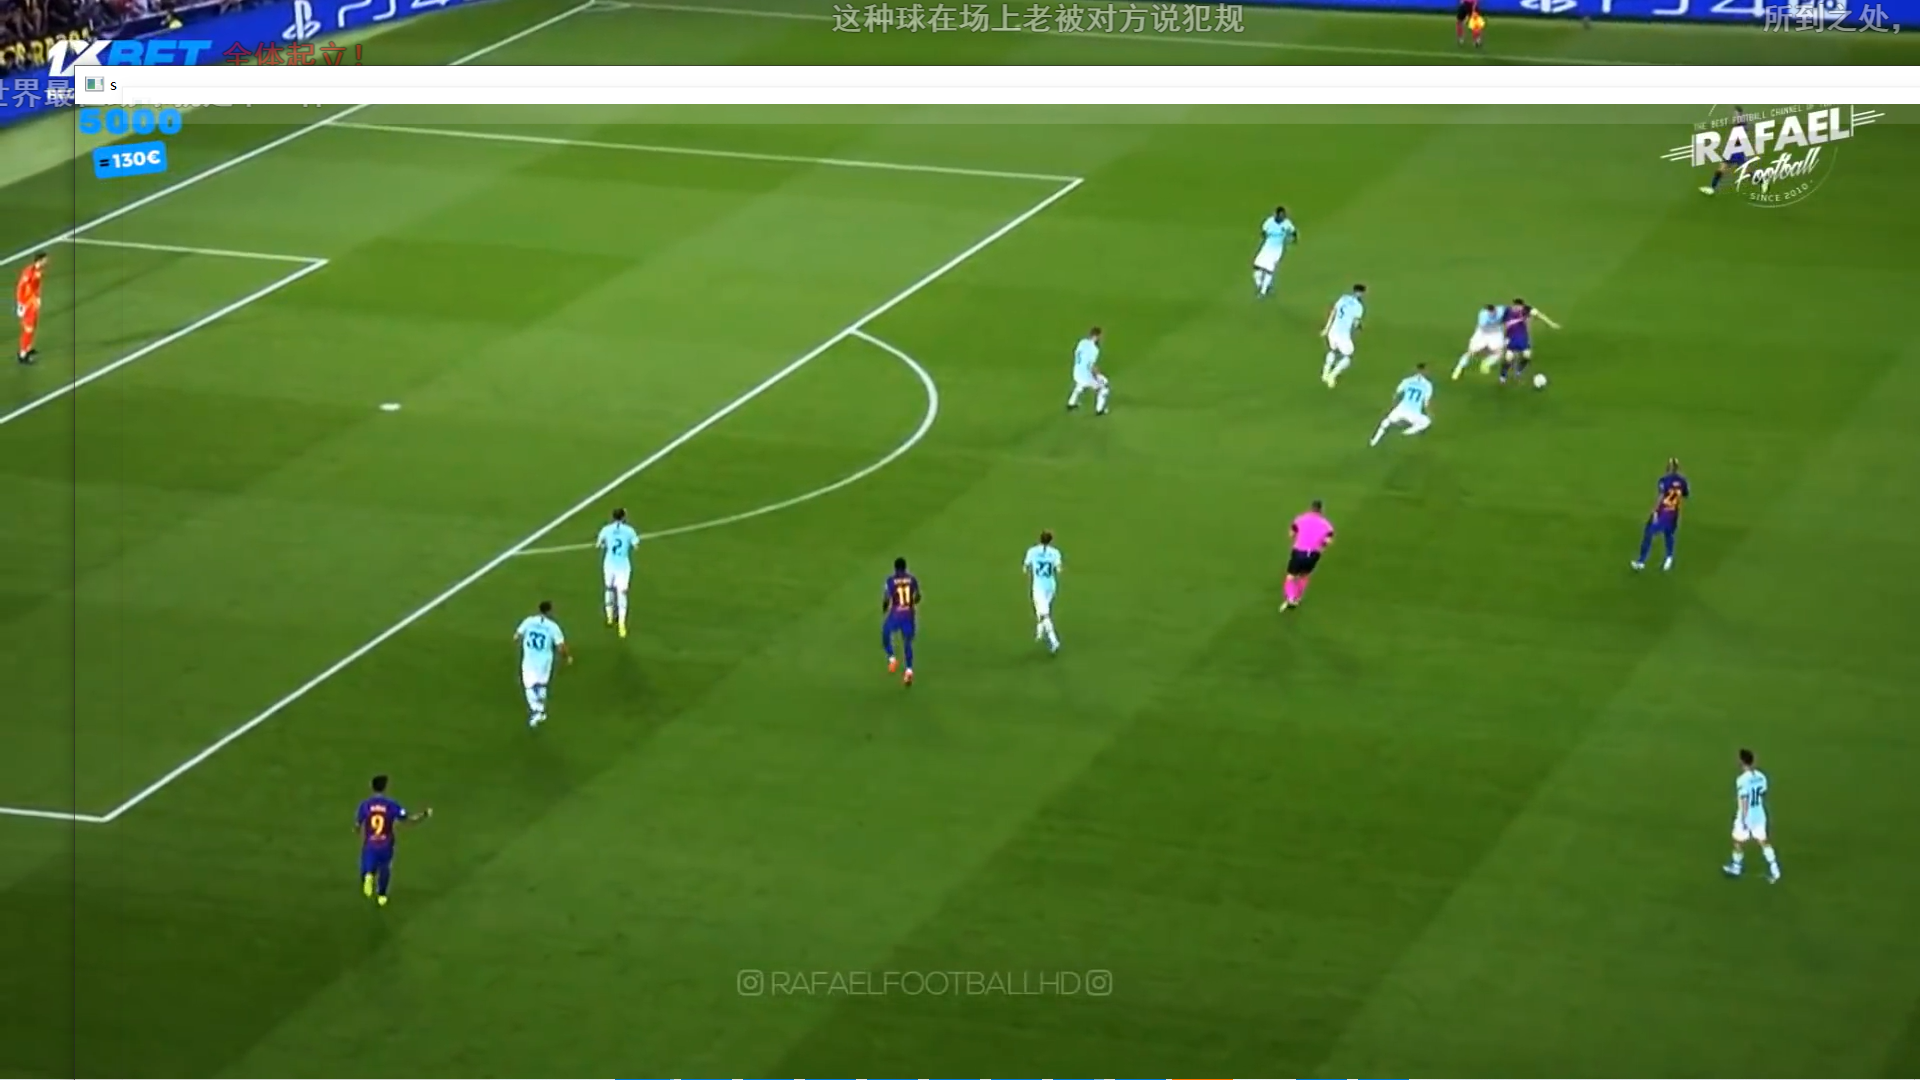ft: (1530, 371, 1549, 392)
